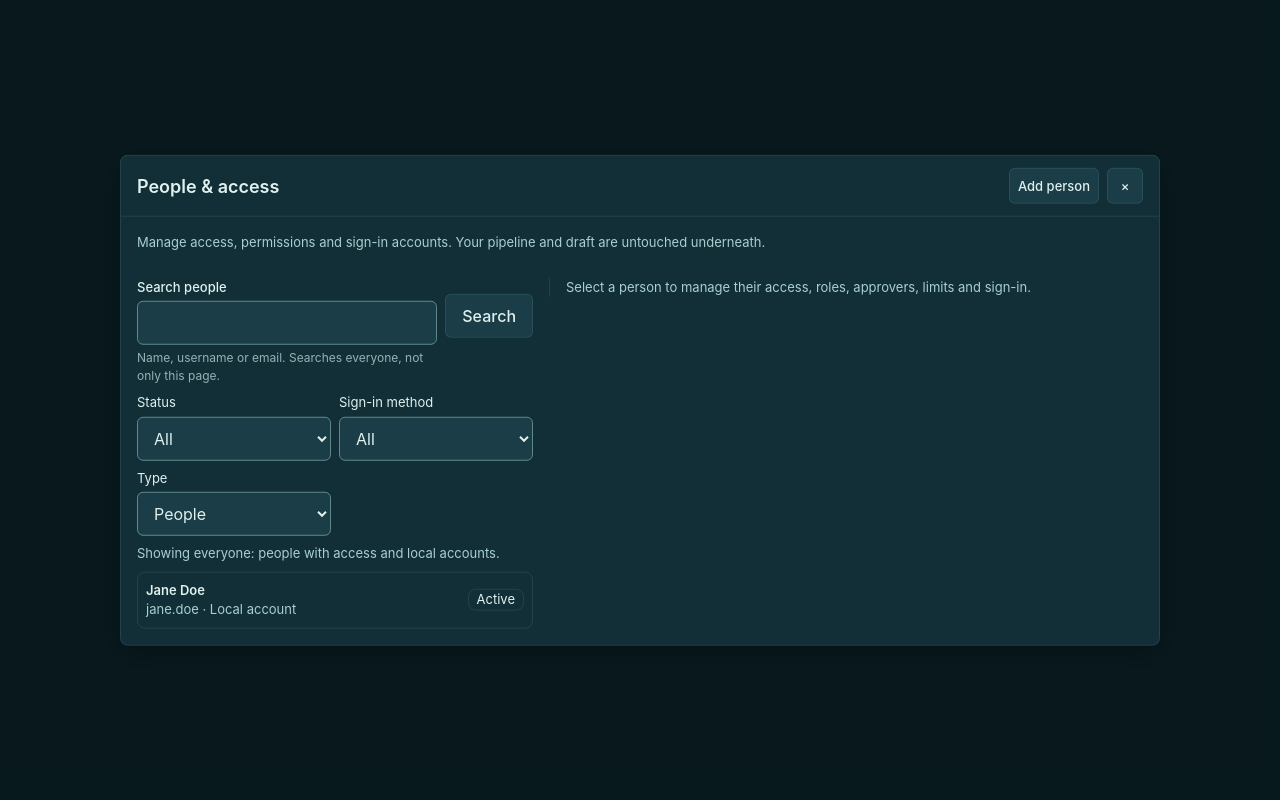
Test: People & access journeys › creates a local account, says access is not set up, then sets it up and moves to the identity key
Click the button "Add person": (1054, 186) left=1009, top=168, right=1099, bottom=204
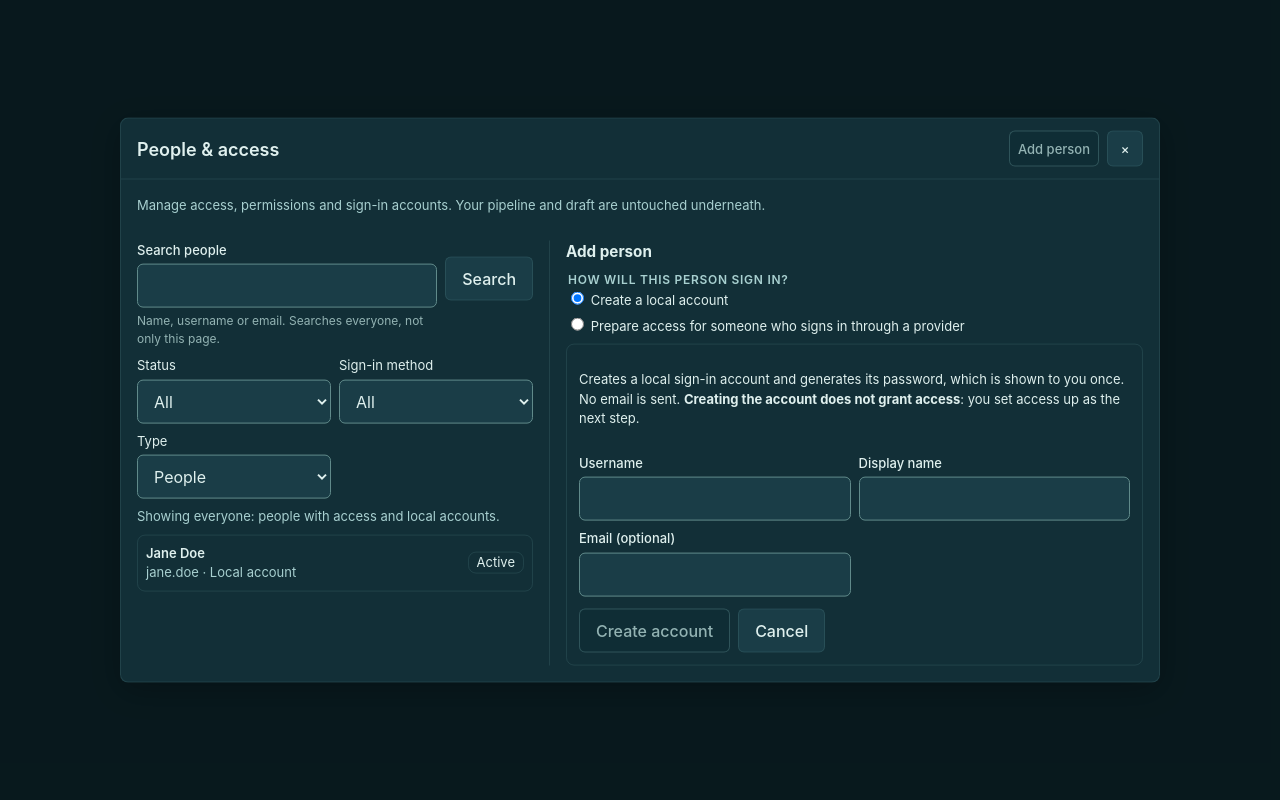
Result: the text "Creating the account does not grant access" is shown at left=684, top=390, right=960, bottom=406
In the field labelled "Username": (715, 499) left=579, top=477, right=850, bottom=521, type "alex"
In the field labelled "Display name": (994, 499) left=858, top=477, right=1130, bottom=521, type "Alex Kim"
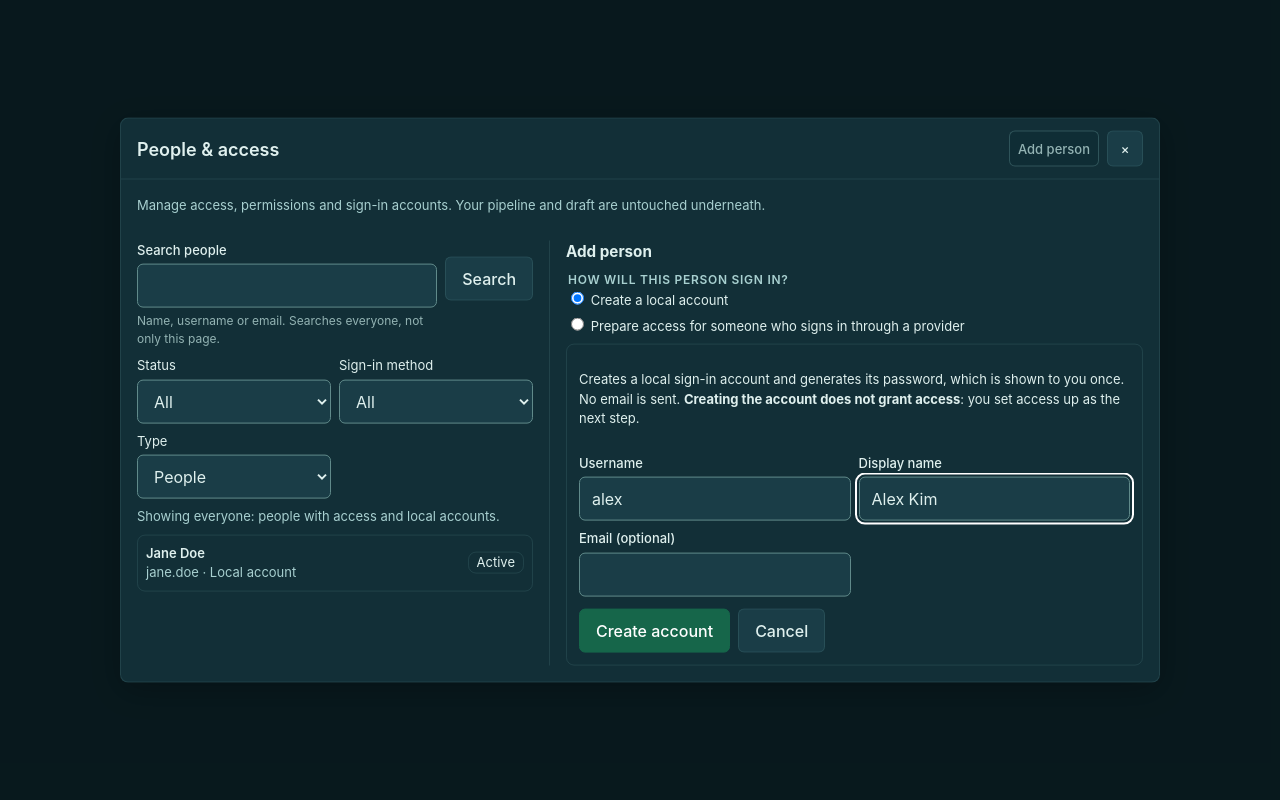
Click the button "Create account": (655, 630) left=579, top=608, right=730, bottom=652
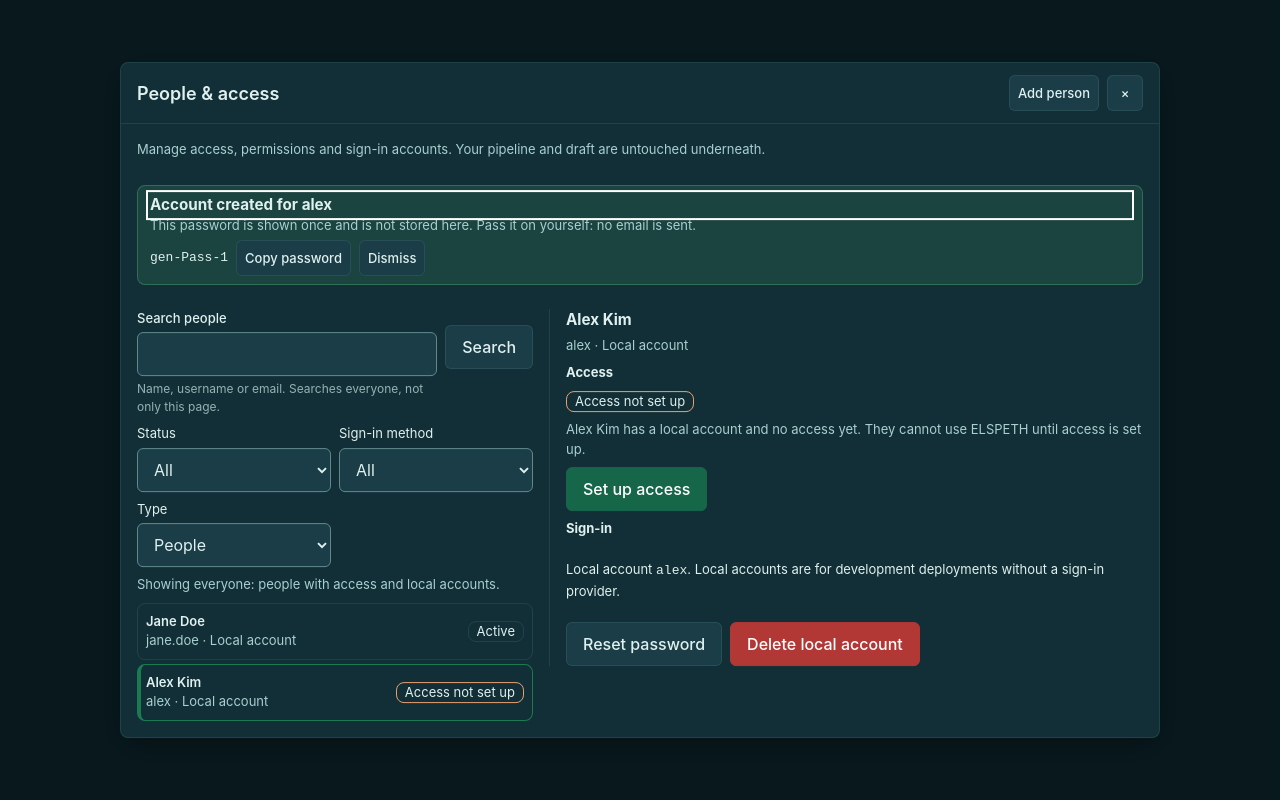
Result: the 1st text "Access not set up" is shown at left=566, top=391, right=694, bottom=412
Click the button "Set up access": (637, 489) left=566, top=467, right=707, bottom=511
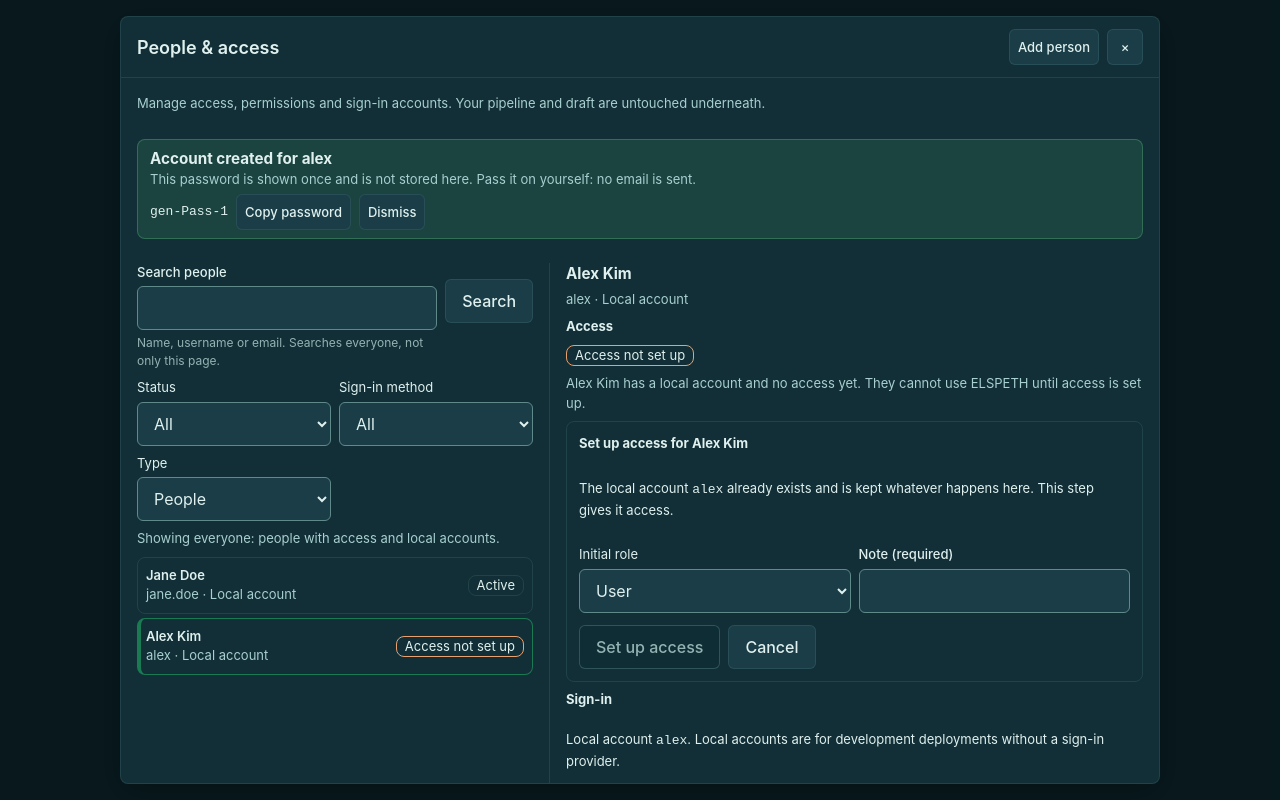
In the field labelled "Note (required)": (994, 591) left=858, top=569, right=1130, bottom=613, type "new starter"
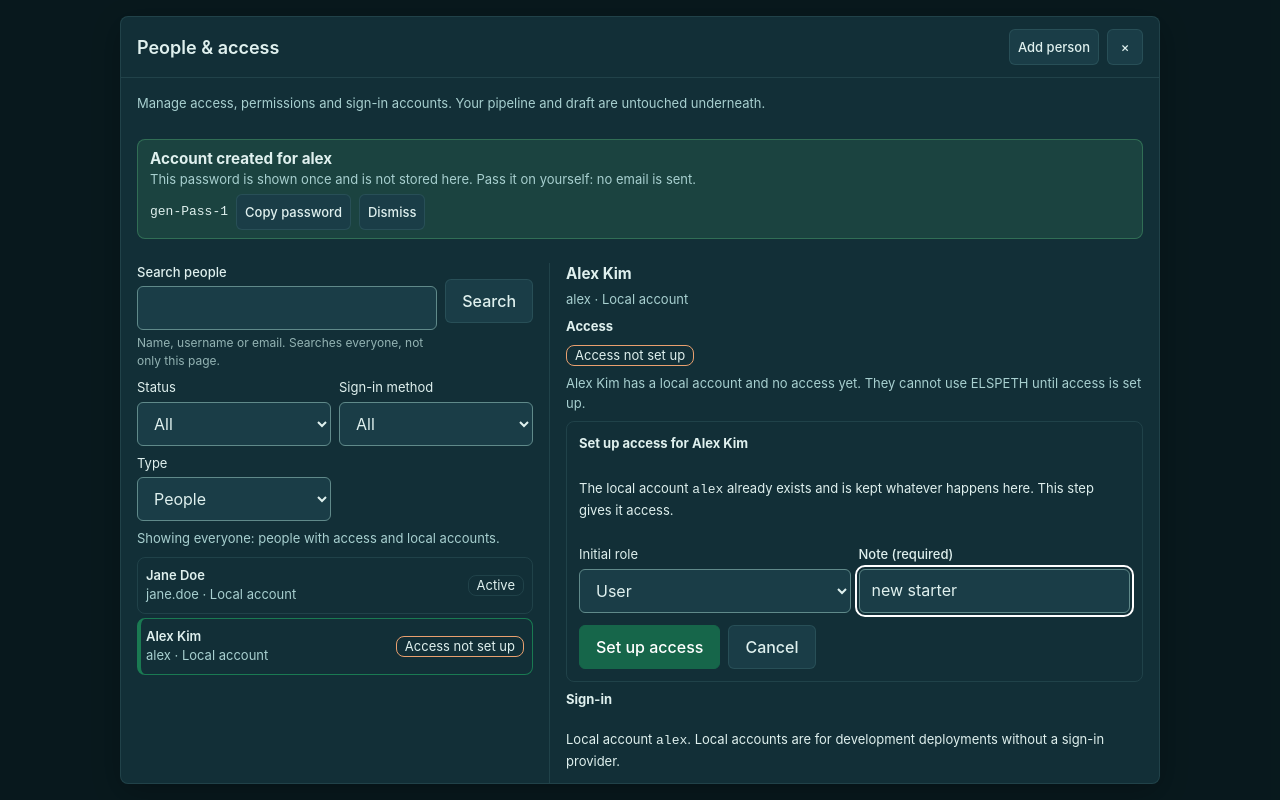
Click the button "Set up access": (650, 647) left=579, top=625, right=720, bottom=669
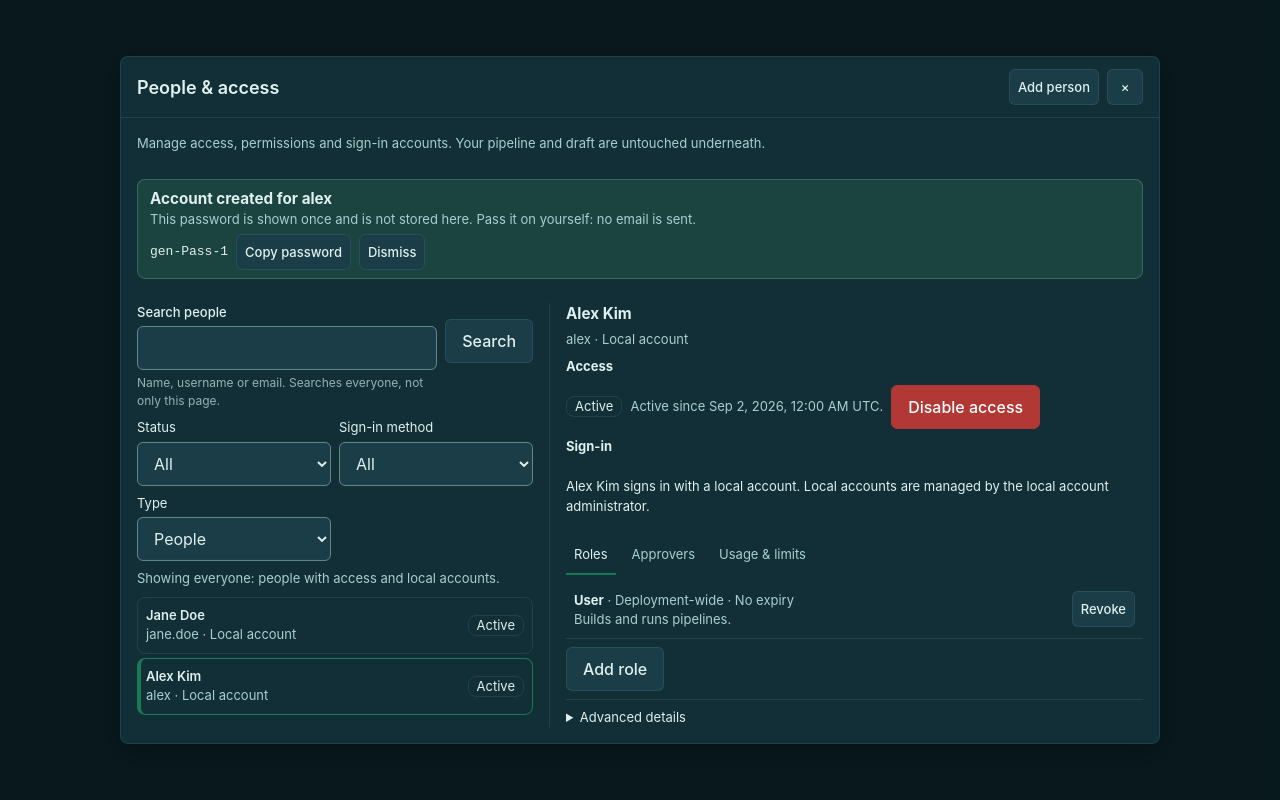
Result: the text with test id "generated-password" reads "gen-Pass-1" at left=150, top=244, right=228, bottom=259
Result: the button "Disable access" is shown at left=891, top=384, right=1040, bottom=428
